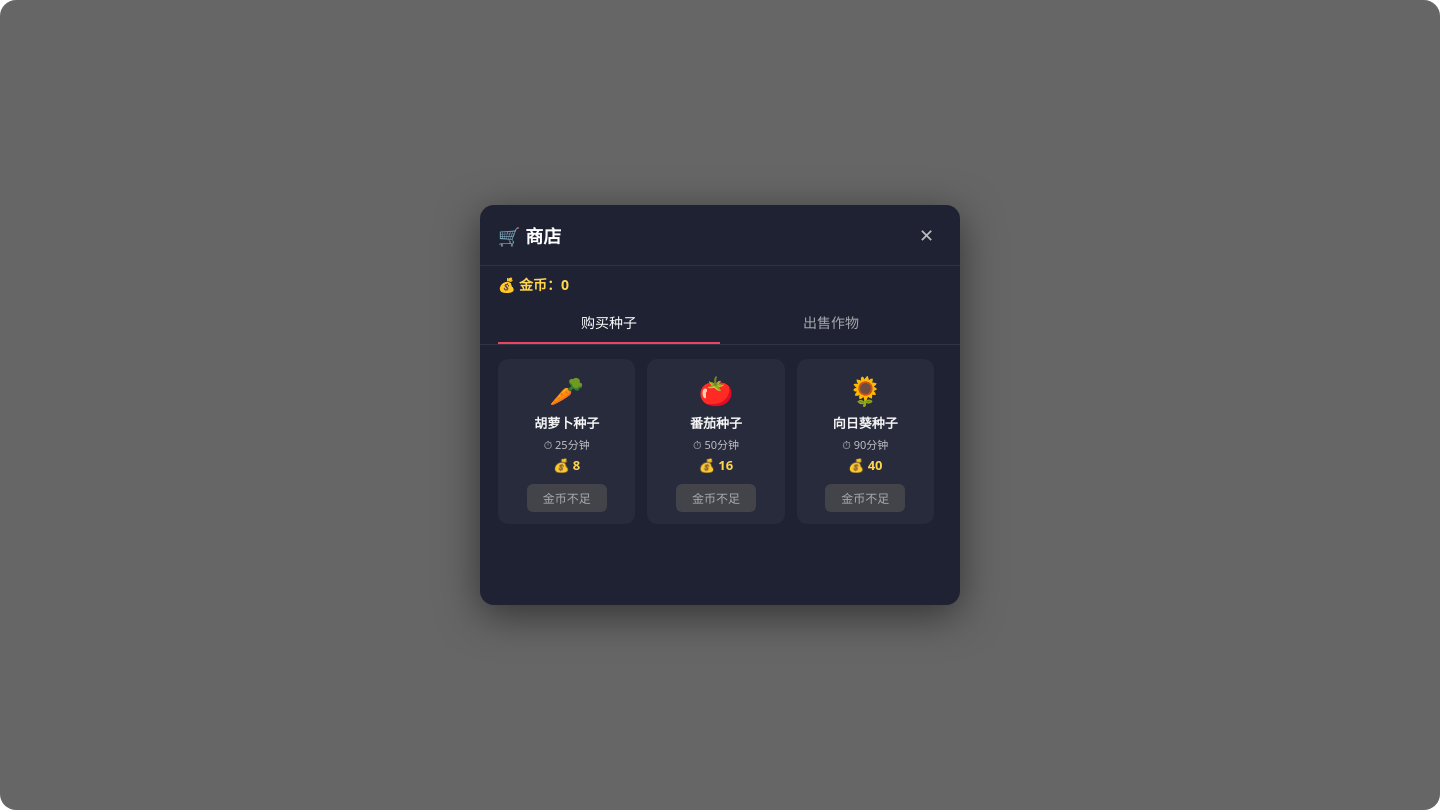
Test: GardenShop.vue › 出售 tab 在背包空时应显示『暂无可出售的作物』
The width and height of the screenshot is (1440, 810).
Click the button with class "shop-tab" showing "出售作物". click: click(831, 323)
box: [720,302,942,344]
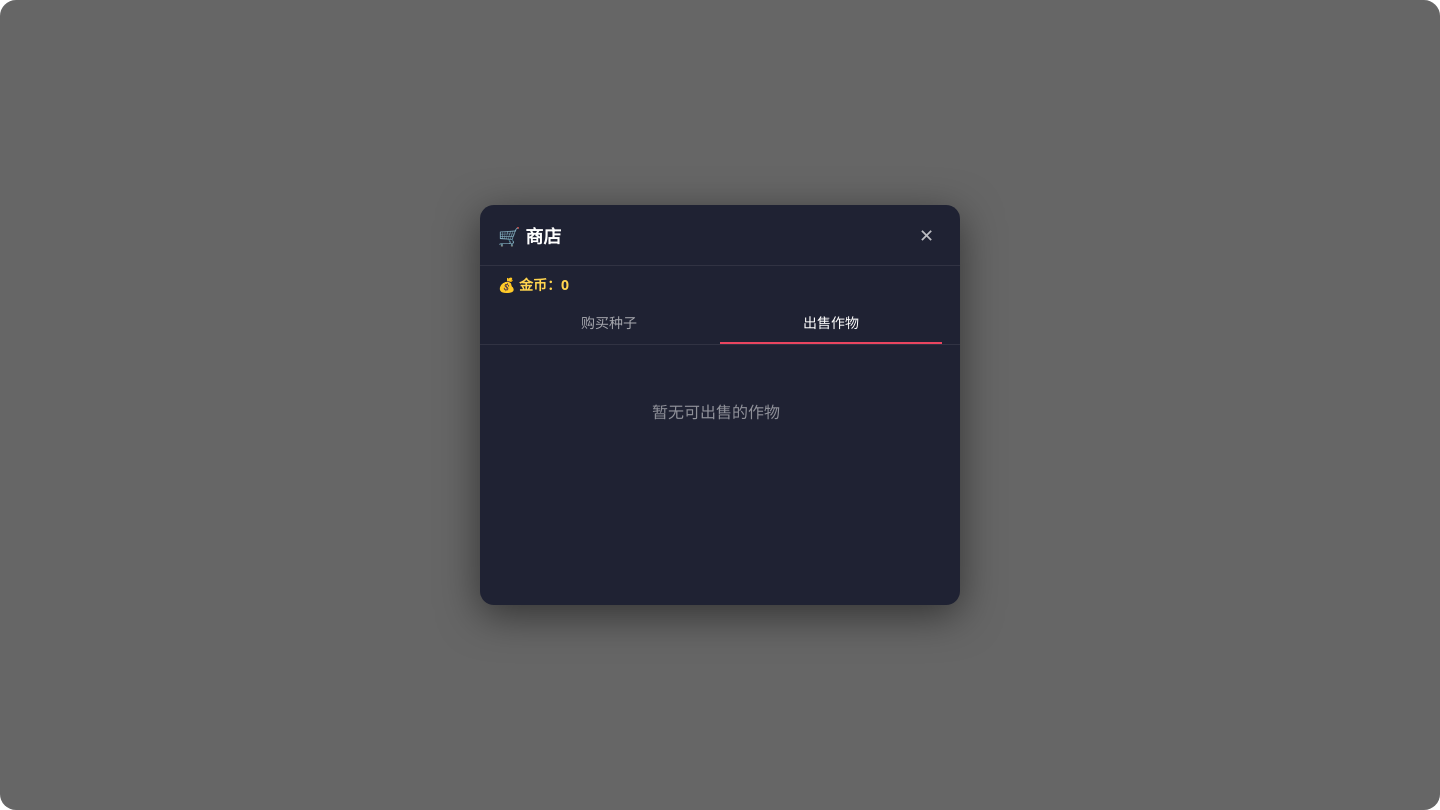
Expected: the text with class "shop-empty" reads "暂无可出售的作物", [652,401,780,423]
